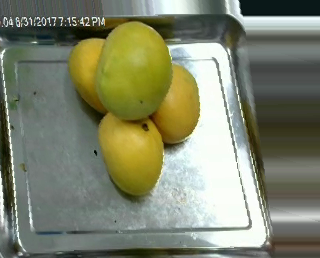Mango: (97, 25, 170, 120), (98, 111, 163, 192), (143, 65, 200, 140), (68, 38, 120, 112)
